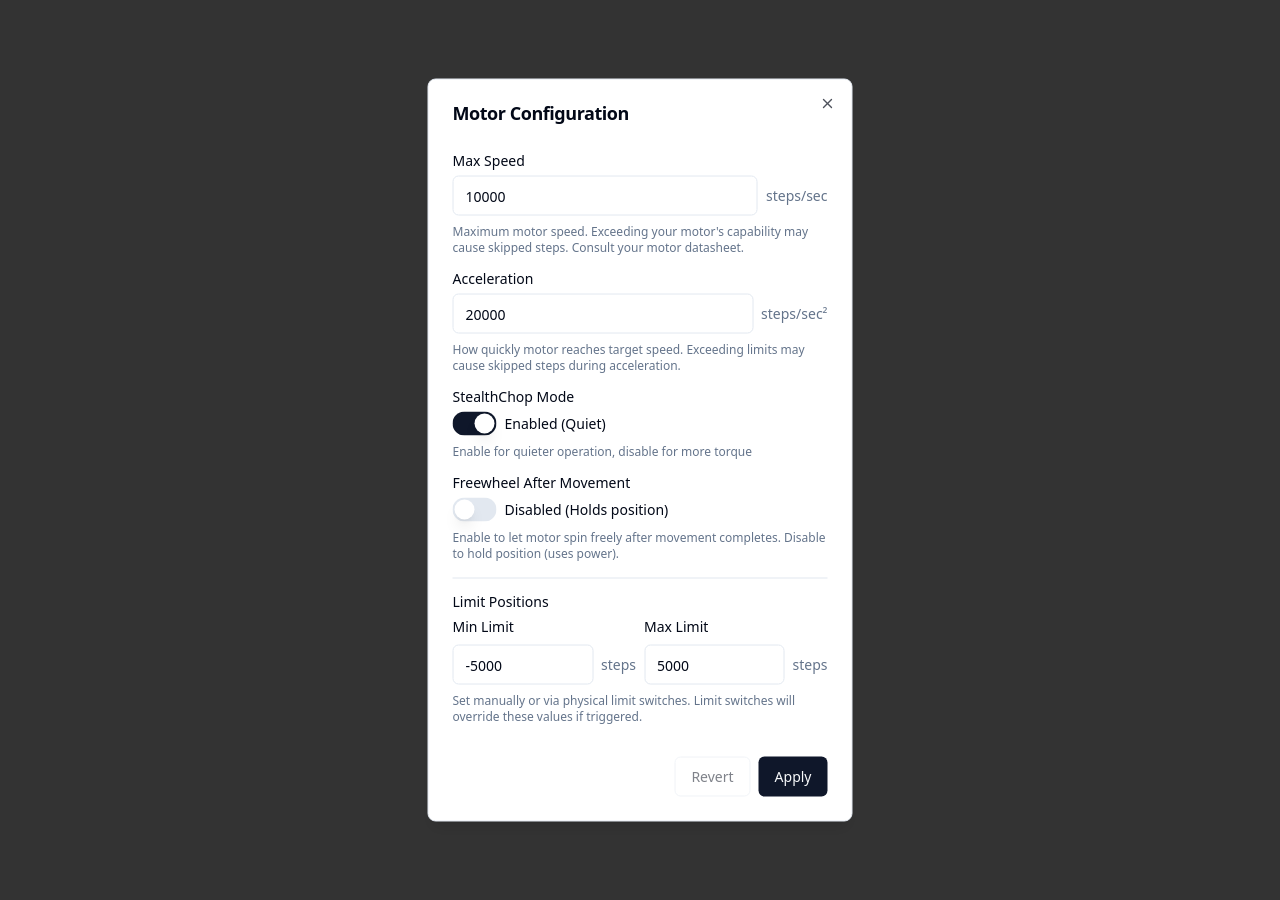
Test: MotorConfigDialog - Input Validation › should show error when maxSpeed is below 100
Replace the text in the number field labelled "Max Speed" with "50". click: point(605, 196)
box: x1=452 y1=176 x2=758 y2=216
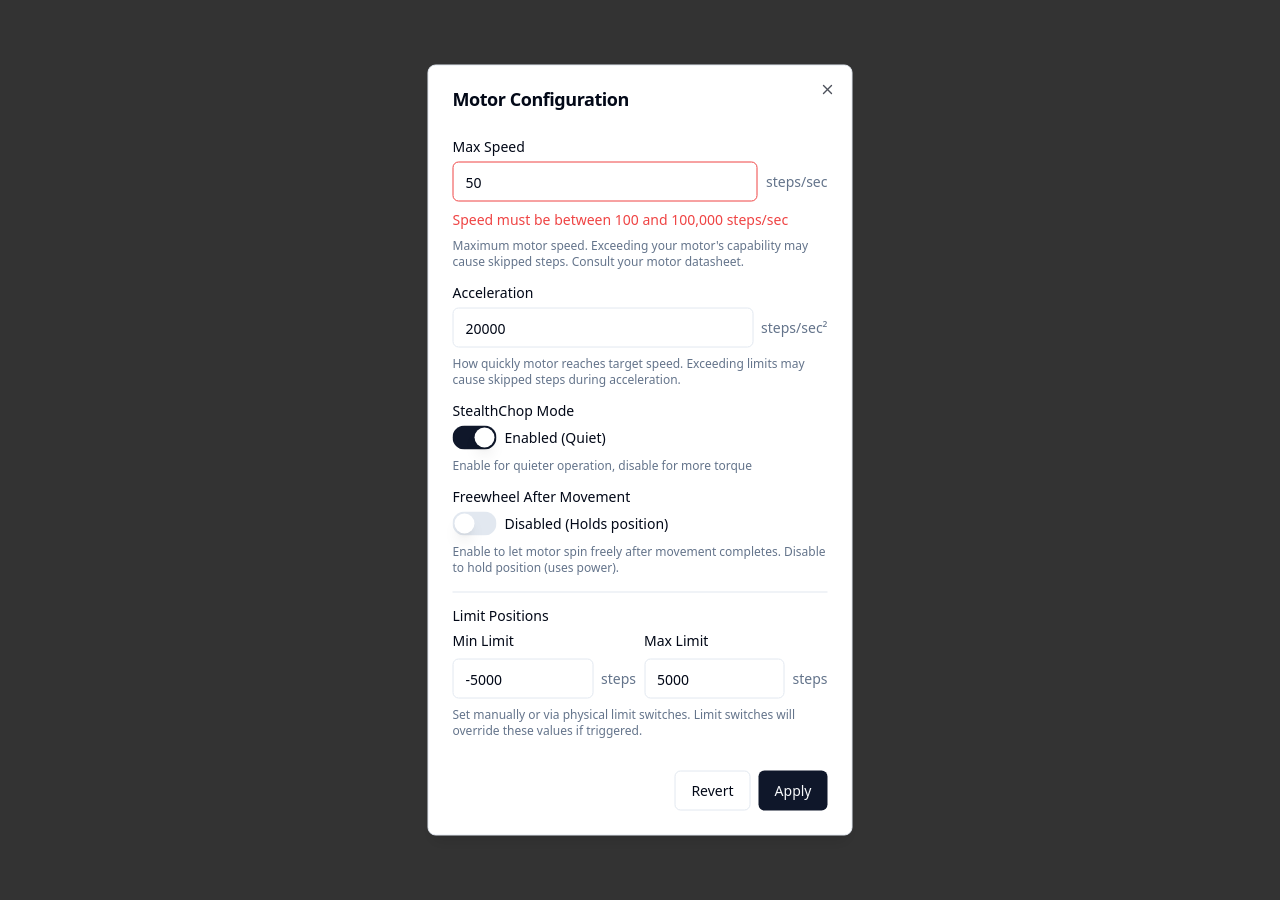
Result: the text "Speed must be between 100 and 100,000 steps/sec" is shown at x1=452 y1=210 x2=828 y2=230
